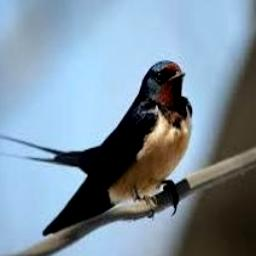Swallow: (0, 59, 192, 237)
